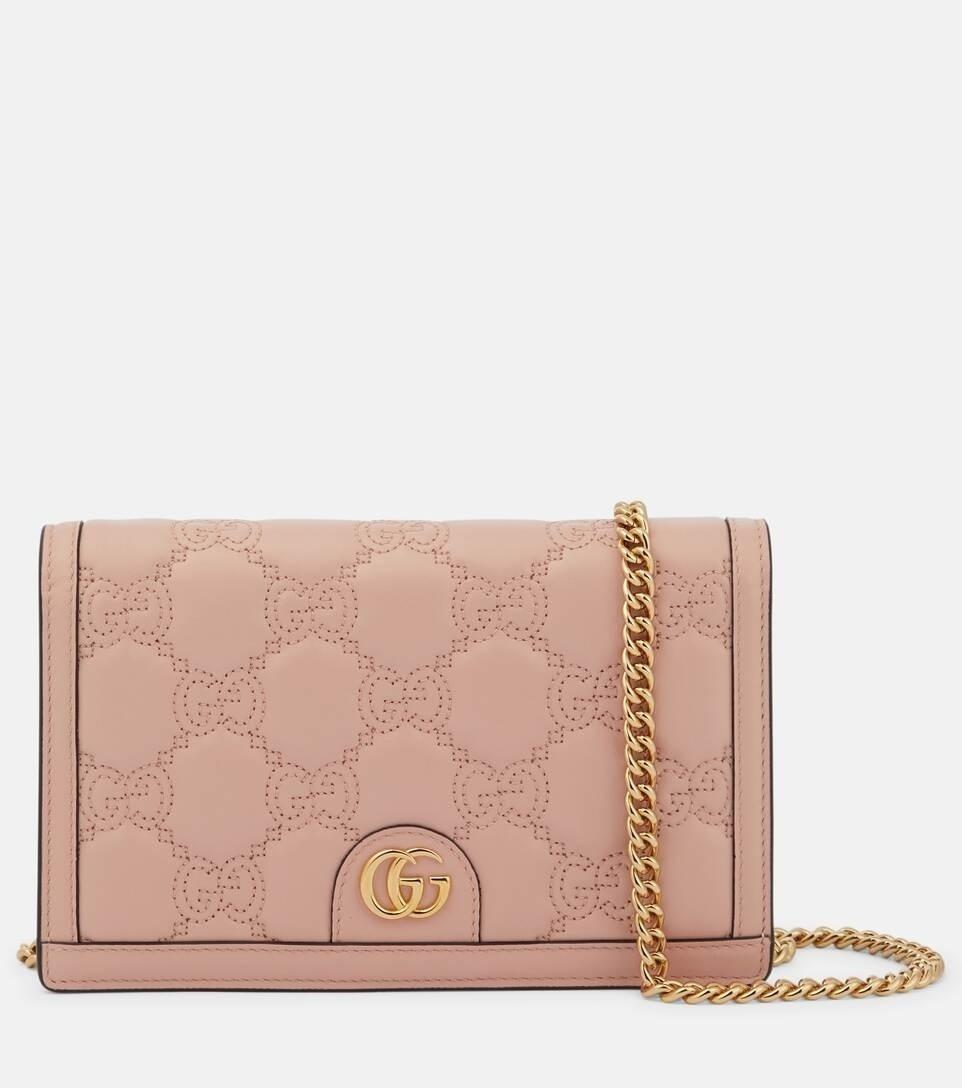GUCCI: (360, 846, 451, 920)
